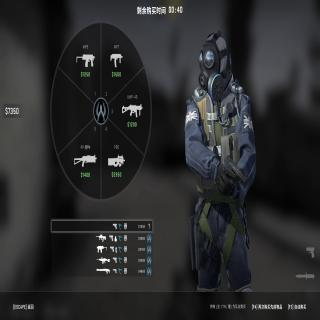CT-Body: (184, 33, 256, 290)
CT-Head: (199, 34, 229, 92)
